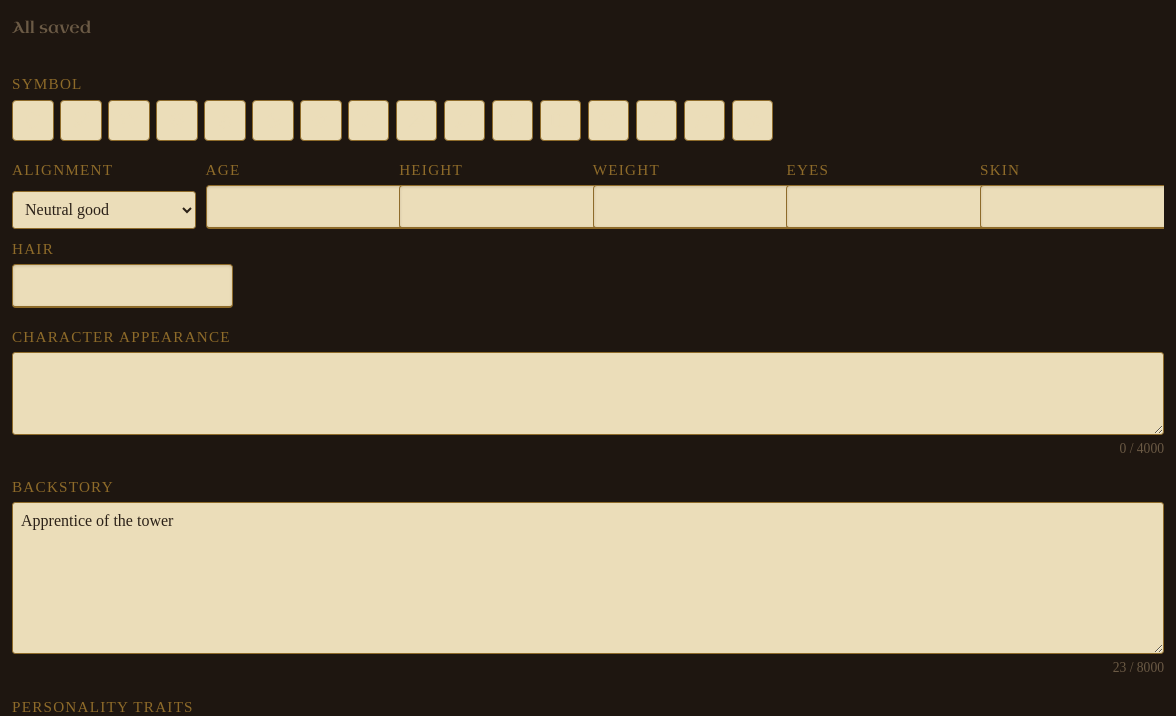
Test: the Details tab (P2-11) › says when a save fails
This screenshot has width=1176, height=716.
Type "black" into the field labelled "Hair" at coordinates (123, 286), box [12,264,233,308]
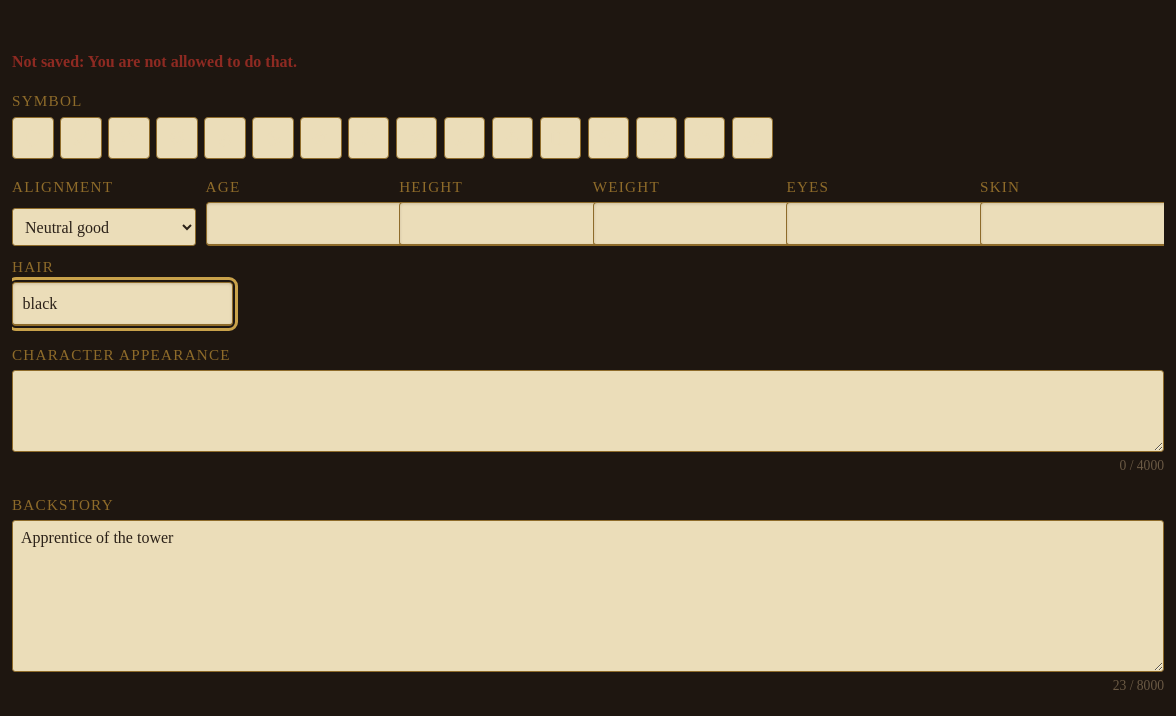
Expected: the message shows "Not saved:", [12,53,297,70]
